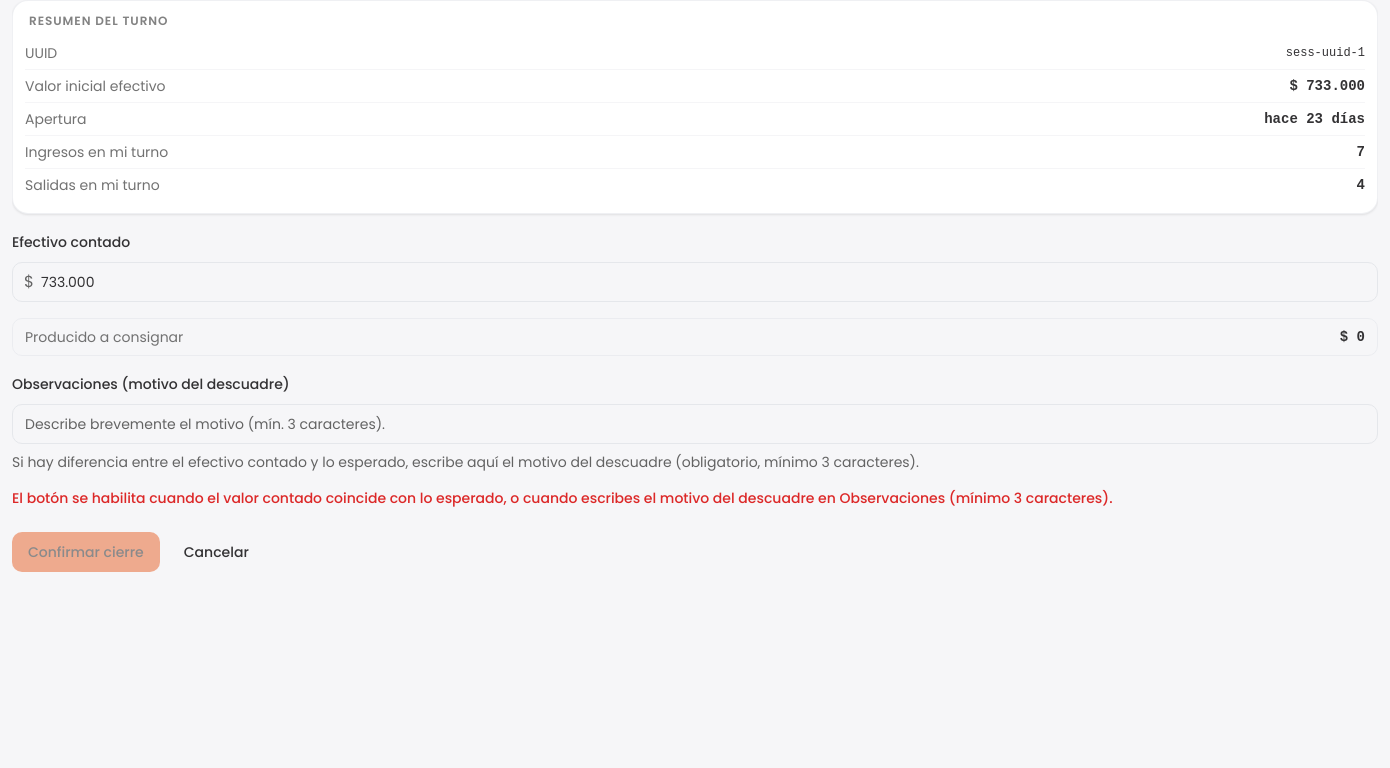
Test: <CerrarTurnoForm /> — motivo del descuadre en Observaciones (conteo ciego) › pre-flight false (stale) pero forceRequireMotivo=true (el backend ya rechazó el POST) → Observaciones obligatoria
Expected: the button with test id "cerrar-turno-confirmar" is disabled, [12,532,160,572]
Type "Descuadre reportado por el backend" into the field with test id "cerrar-turno-observaciones" at [695, 424], box [12,404,1378,444]
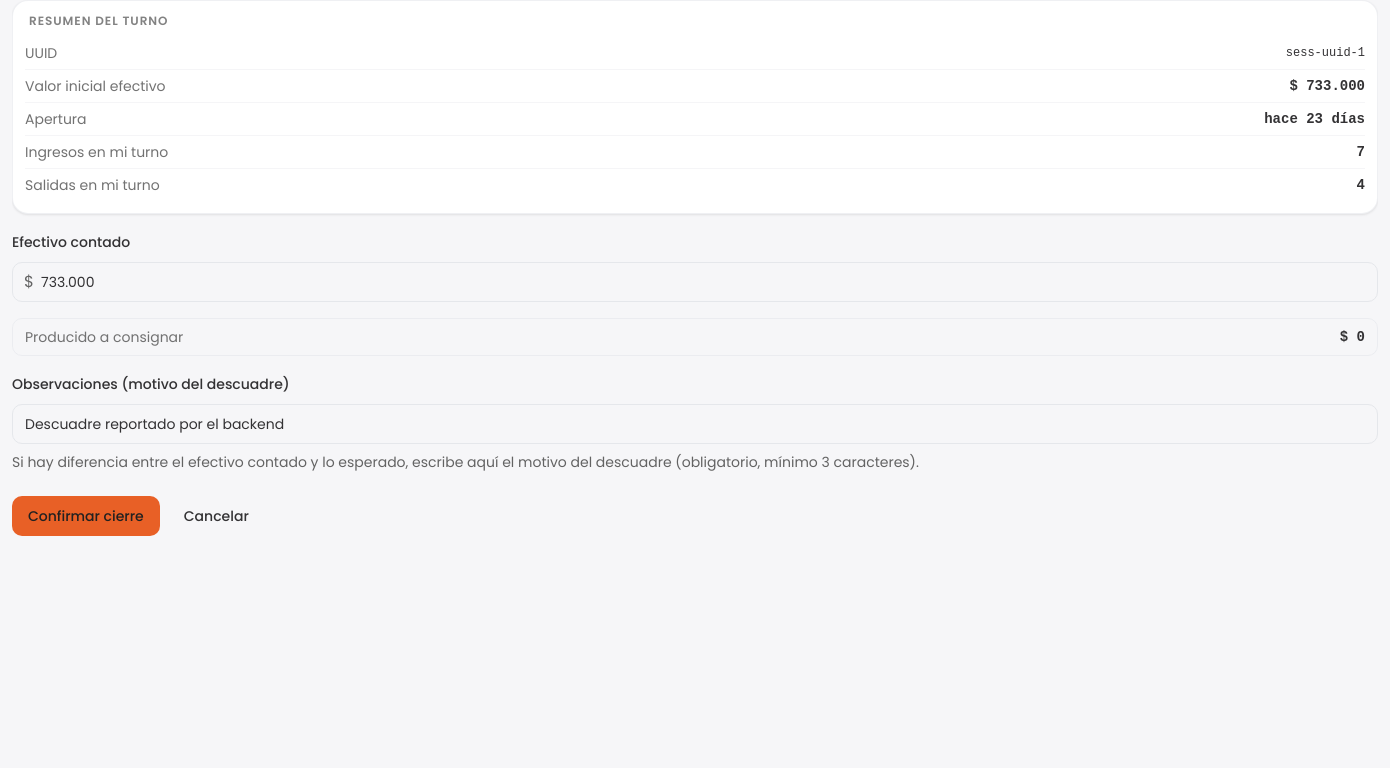
Now the button with test id "cerrar-turno-confirmar" is enabled, box [12,496,160,536]
